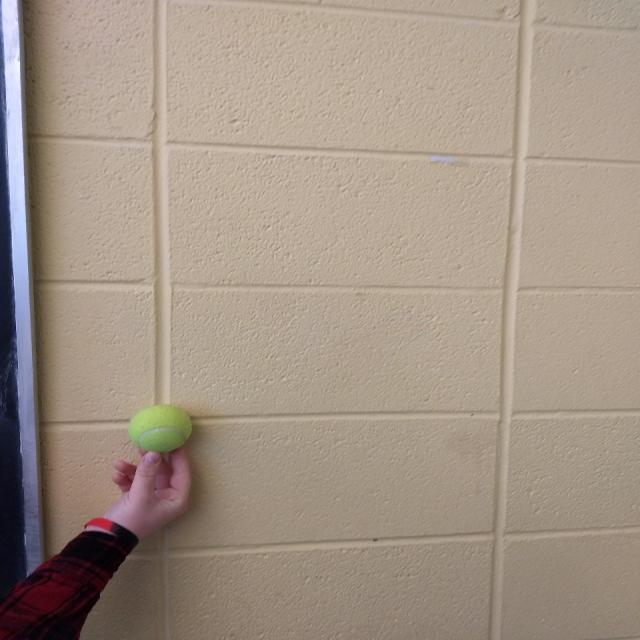Tennis-Ball: (126, 402, 195, 456)
